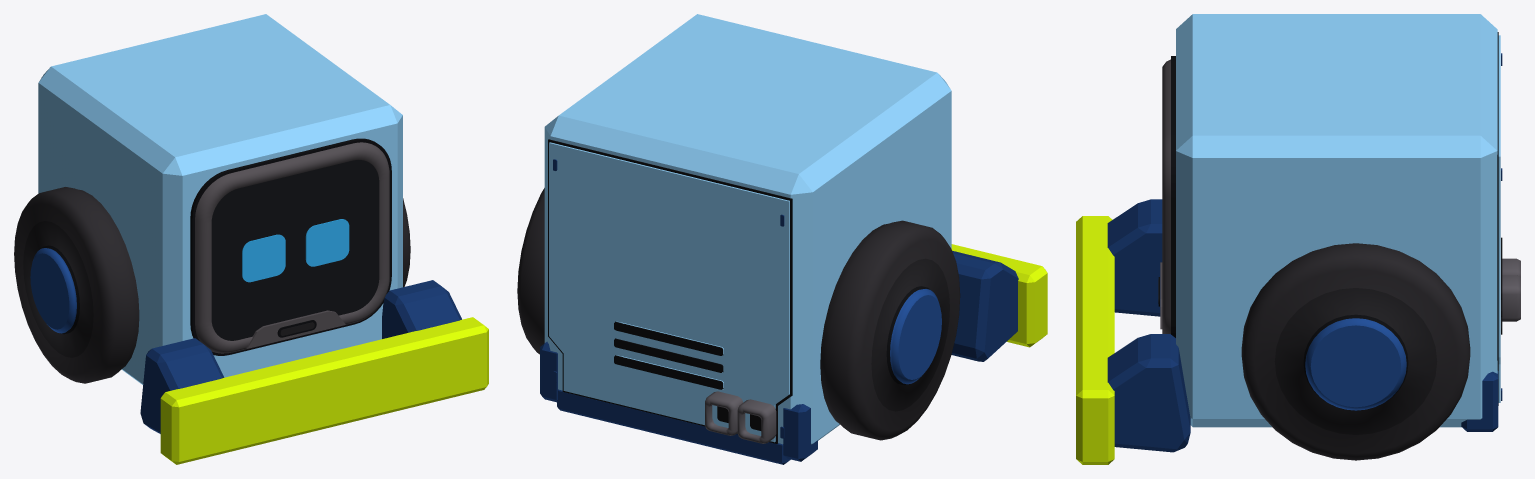
File: SkyGoalkeeper.fbx
3 renders of one model, left to right at view 1: azimuth 30°, elevation 25°; view 2: azimuth 150°, elevation 25°; view 3: azimuth 270°, elevation 25°, orthographic. The views are drawn at different scales.
Visible parts, largest first — view 1: SkyGoalkeeper; view 2: SkyGoalkeeper; view 3: SkyGoalkeeper.
Part boxes in pixels (x1,y1,x2,y2): SkyGoalkeeper: (14, 14, 488, 464); SkyGoalkeeper: (517, 14, 1047, 464); SkyGoalkeeper: (1076, 14, 1520, 464).
Bounding box in the file's own units: 1.35 × 1.04 × 1.38.
